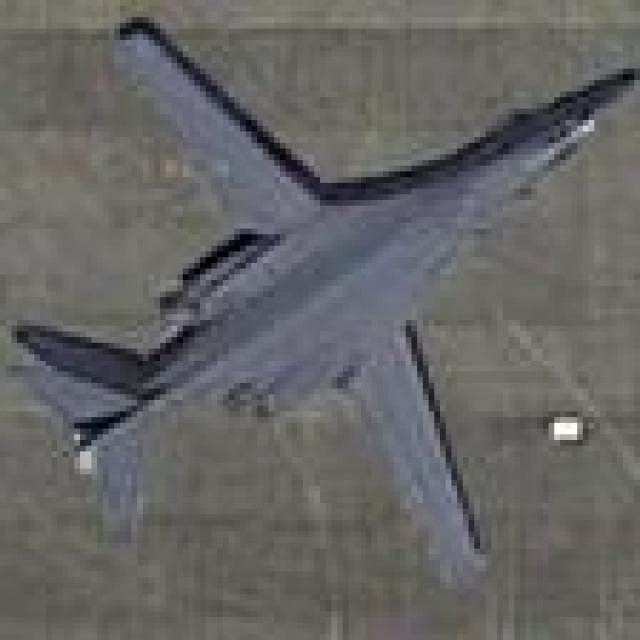B-1_TopDown: (6, 6, 634, 594)
